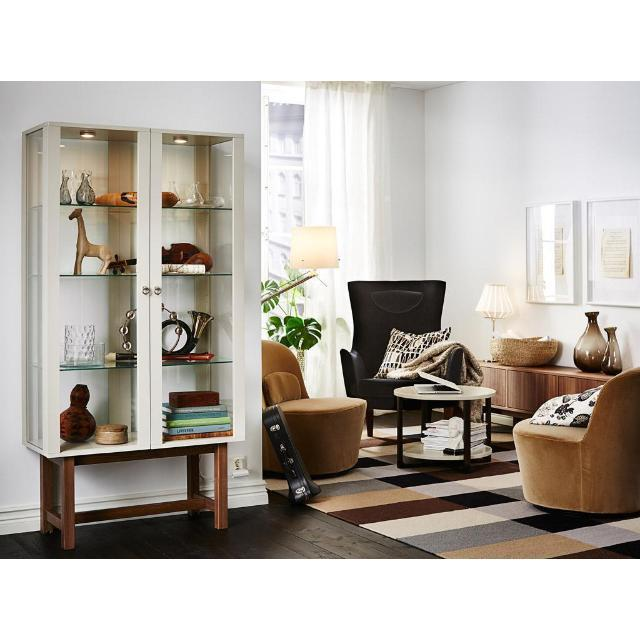armchair: (340, 281, 462, 437), (514, 367, 640, 513), (261, 341, 366, 475), (262, 427, 282, 473)
curtain: (304, 81, 391, 397)
lamp: (261, 226, 339, 304), (475, 284, 514, 332)
pillow: (375, 328, 451, 378)
rug: (263, 423, 640, 558)
shelf: (22, 122, 245, 548), (481, 362, 611, 418)
table: (394, 385, 495, 470)
wall-art: (586, 198, 640, 307), (525, 201, 580, 304)
